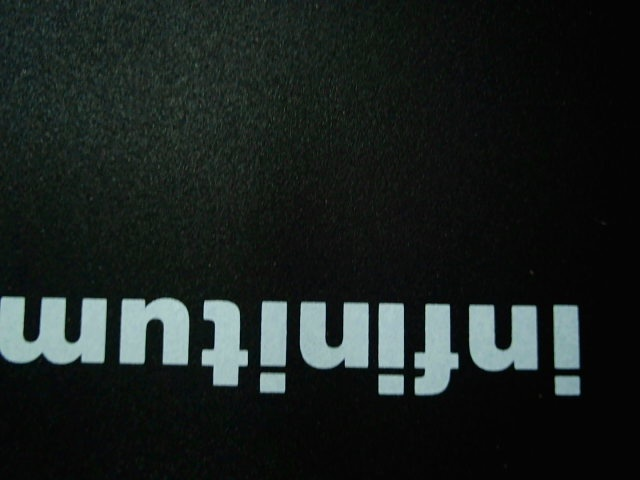BK_infinitum: (2, 290, 596, 411)
